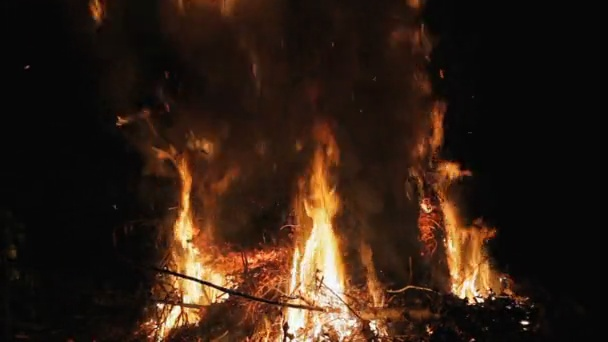fire: (154, 149, 232, 337), (279, 160, 358, 342), (434, 162, 492, 305), (369, 319, 387, 336)
